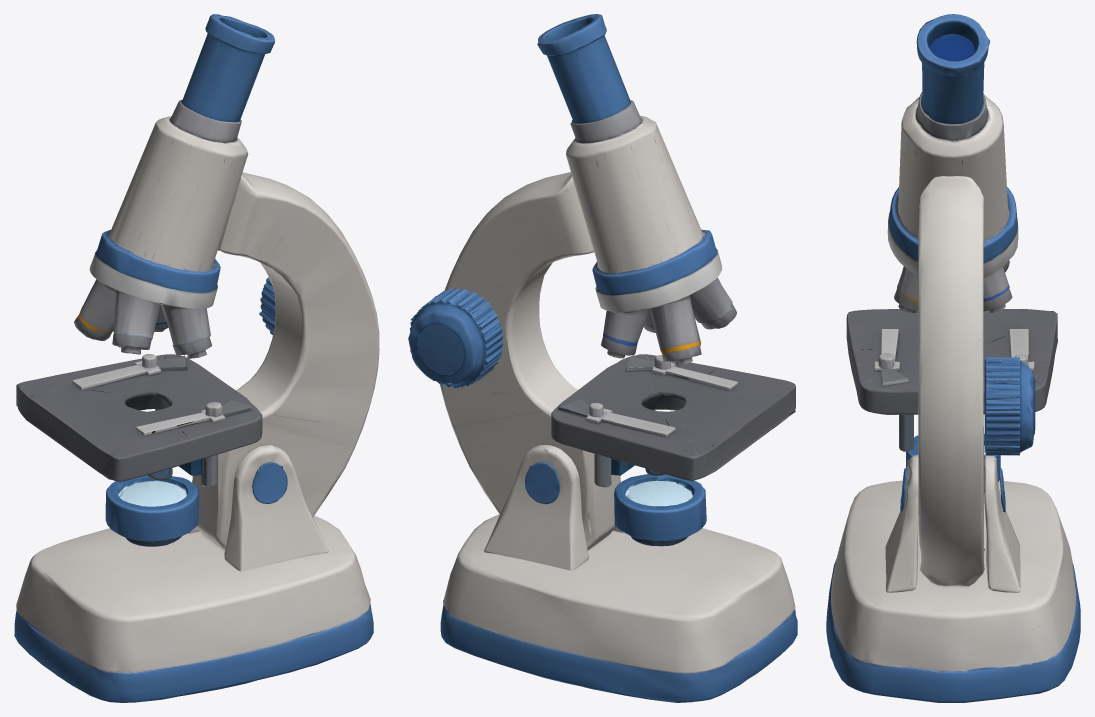
The model's file is SchoolMicroscope.glb.
3 views of the same model, side by side, from view 1: azimuth 30°, elevation 25°; view 2: azimuth 150°, elevation 25°; view 3: azimuth 270°, elevation 25° (orthographic). The views are drawn at different scales.
Visible parts, largest first — view 1: geometry_0; view 2: geometry_0; view 3: geometry_0.
Part boxes in pixels (x1=…): geometry_0: x1=14, y1=14, x2=379, y2=702; geometry_0: x1=408, y1=14, x2=797, y2=702; geometry_0: x1=826, y1=14, x2=1080, y2=702.
Bounding box in the file's own units: 0.5254 × 0.9512 × 0.3516.
1 material, 1 textured.
